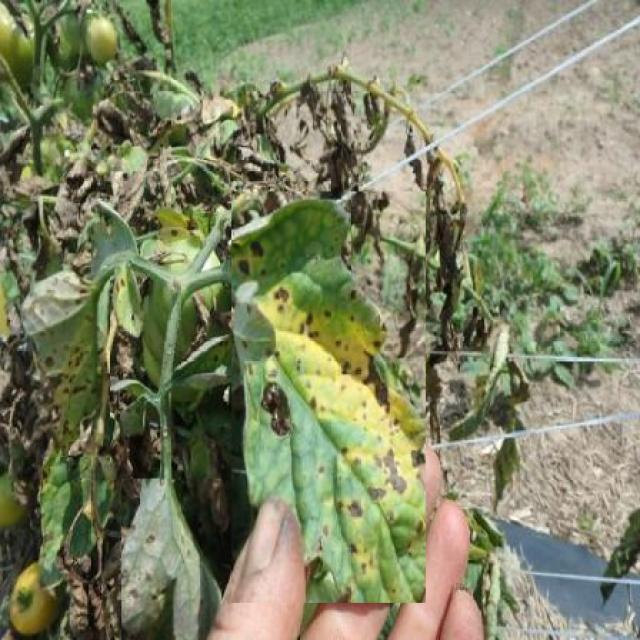Septoria: (231, 192, 426, 604), (24, 266, 110, 457), (121, 478, 221, 640)
